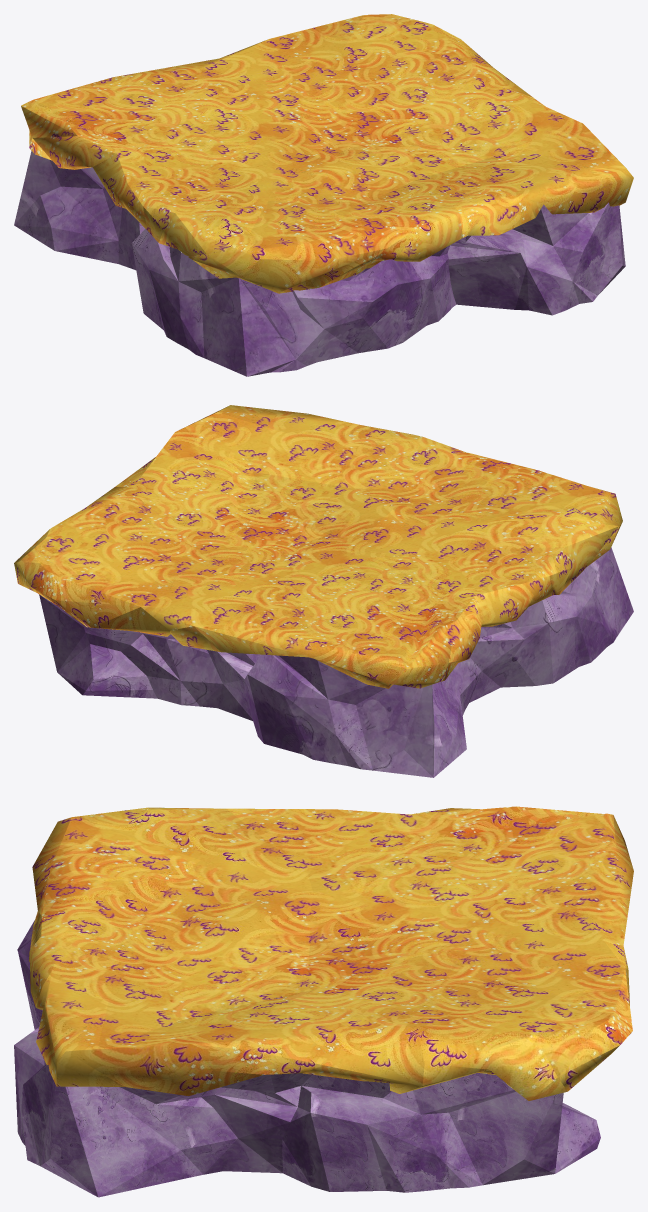
File: Floating_Island_03_Art.fbx
3 renders of one model, top to bottom at view 1: azimuth 30°, elevation 25°; view 2: azimuth 150°, elevation 25°; view 3: azimuth 270°, elevation 25°, orthographic. The views are drawn at different scales.
Parts seen in each view (by area): view 1: Floating_Island_3; view 2: Floating_Island_3; view 3: Floating_Island_3.
Boxes of the visible parts, x1=… form: Floating_Island_3: x1=14, y1=14, x2=633, y2=376; Floating_Island_3: x1=14, y1=405, x2=633, y2=777; Floating_Island_3: x1=14, y1=806, x2=633, y2=1197.
Bounding box in the file's own units: 1552 × 429 × 1573.
